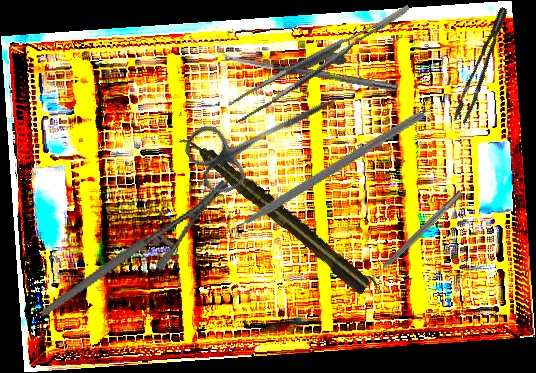Chopper: (203, 48, 425, 295)
Fixation Ring: (361, 185, 469, 292)
Handpiece: (176, 127, 374, 297)
Iris Scissors: (179, 64, 354, 201)
Needle Holder: (19, 178, 250, 317)
Surgical Spoon: (220, 52, 399, 92)
Tissue Forceps: (219, 4, 425, 124), (441, 6, 524, 127)
